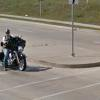Motorcycle: (0, 27, 34, 77)
